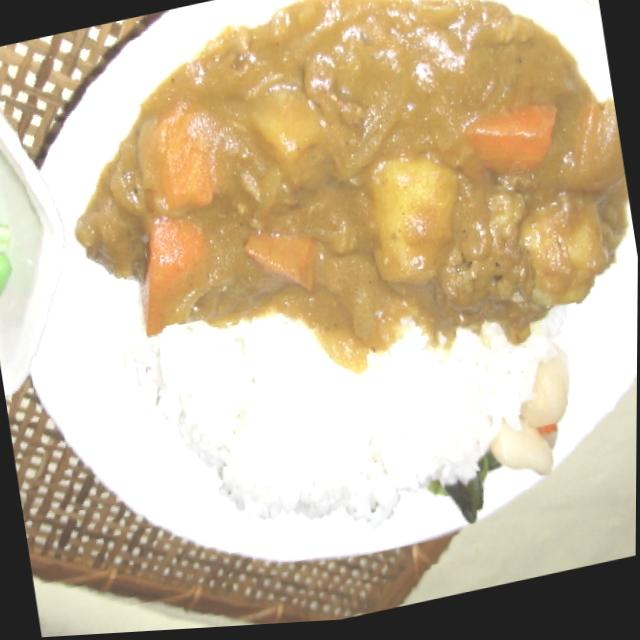牛肉菜式: (30, 0, 640, 620)
